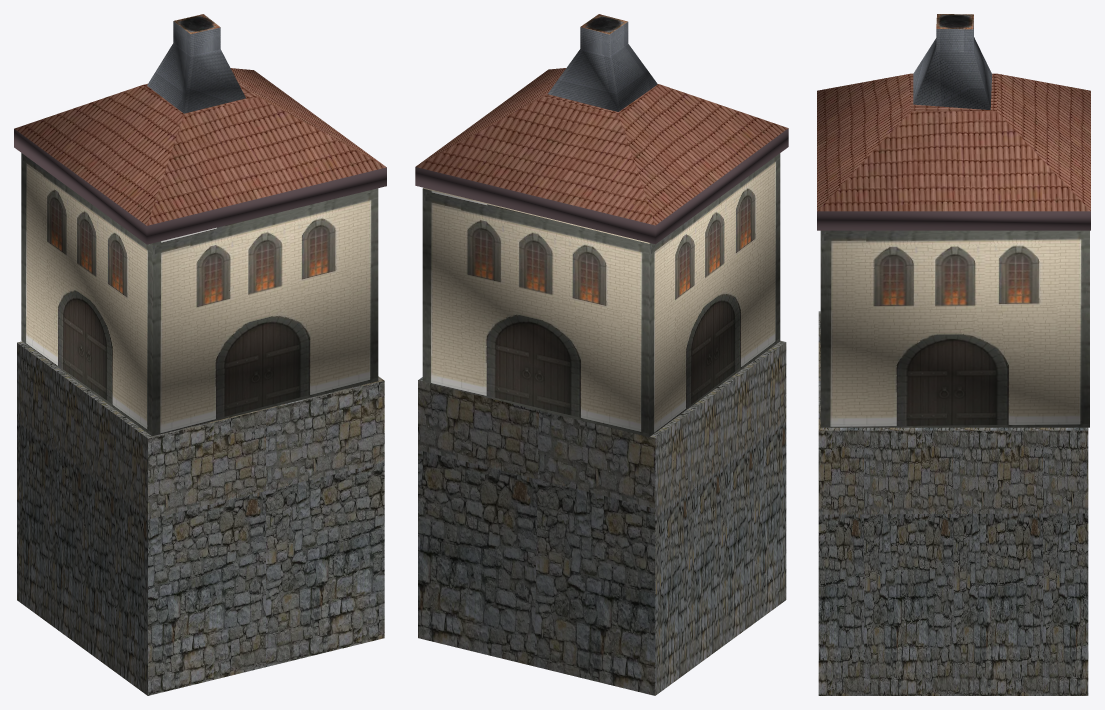
File: ironworks.glb
3 views of the same model, side by side, from view 1: azimuth 30°, elevation 25°; view 2: azimuth 150°, elevation 25°; view 3: azimuth 270°, elevation 25° (orthographic). The views are drawn at different scales.
Visible parts, largest first — view 1: Cube.002, Cube, Cube.001, Cube.003; view 2: Cube.002, Cube, Cube.001, Cube.003; view 3: Cube.002, Cube, Cube.001, Cube.003.
Part boxes in pixels (left/top/right/bottom): Cube.002: left=17, top=341, right=384, bottom=695; Cube: left=21, top=153, right=378, bottom=436; Cube.001: left=14, top=68, right=386, bottom=244; Cube.003: left=147, top=14, right=245, bottom=113; Cube.002: left=418, top=340, right=786, bottom=695; Cube: left=422, top=153, right=780, bottom=436; Cube.001: left=415, top=68, right=788, bottom=244; Cube.003: left=548, top=14, right=657, bottom=111; Cube.002: left=818, top=311, right=1088, bottom=695; Cube: left=820, top=230, right=1089, bottom=427; Cube.001: left=817, top=73, right=1090, bottom=230; Cube.003: left=913, top=14, right=992, bottom=109.
Bounding box in the file's own units: 1.95 × 4.62 × 1.87.
6 materials, 5 textured.
